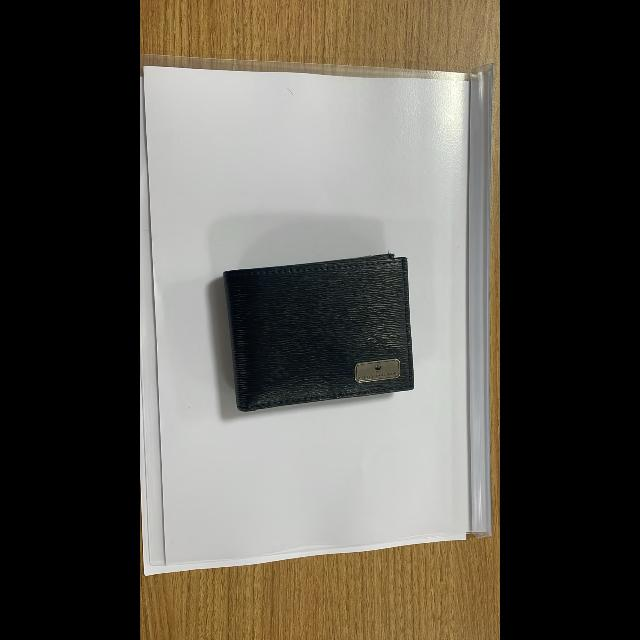wallet: (211, 241, 433, 435)
